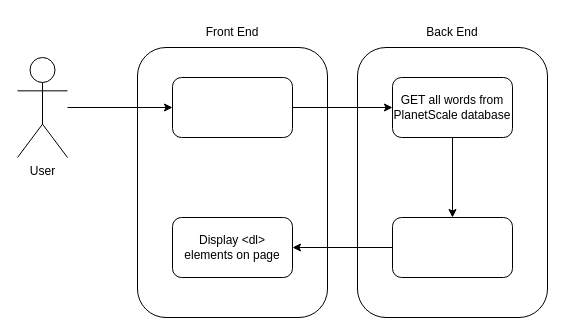
Image size: 565x335. Some labels were removed from this diagram. Each missing label, with the centre of its shape:
Click "Show All Words" Button: point (232, 107)
return HTML <dl> with every word and its definition/link(s): point (452, 247)
